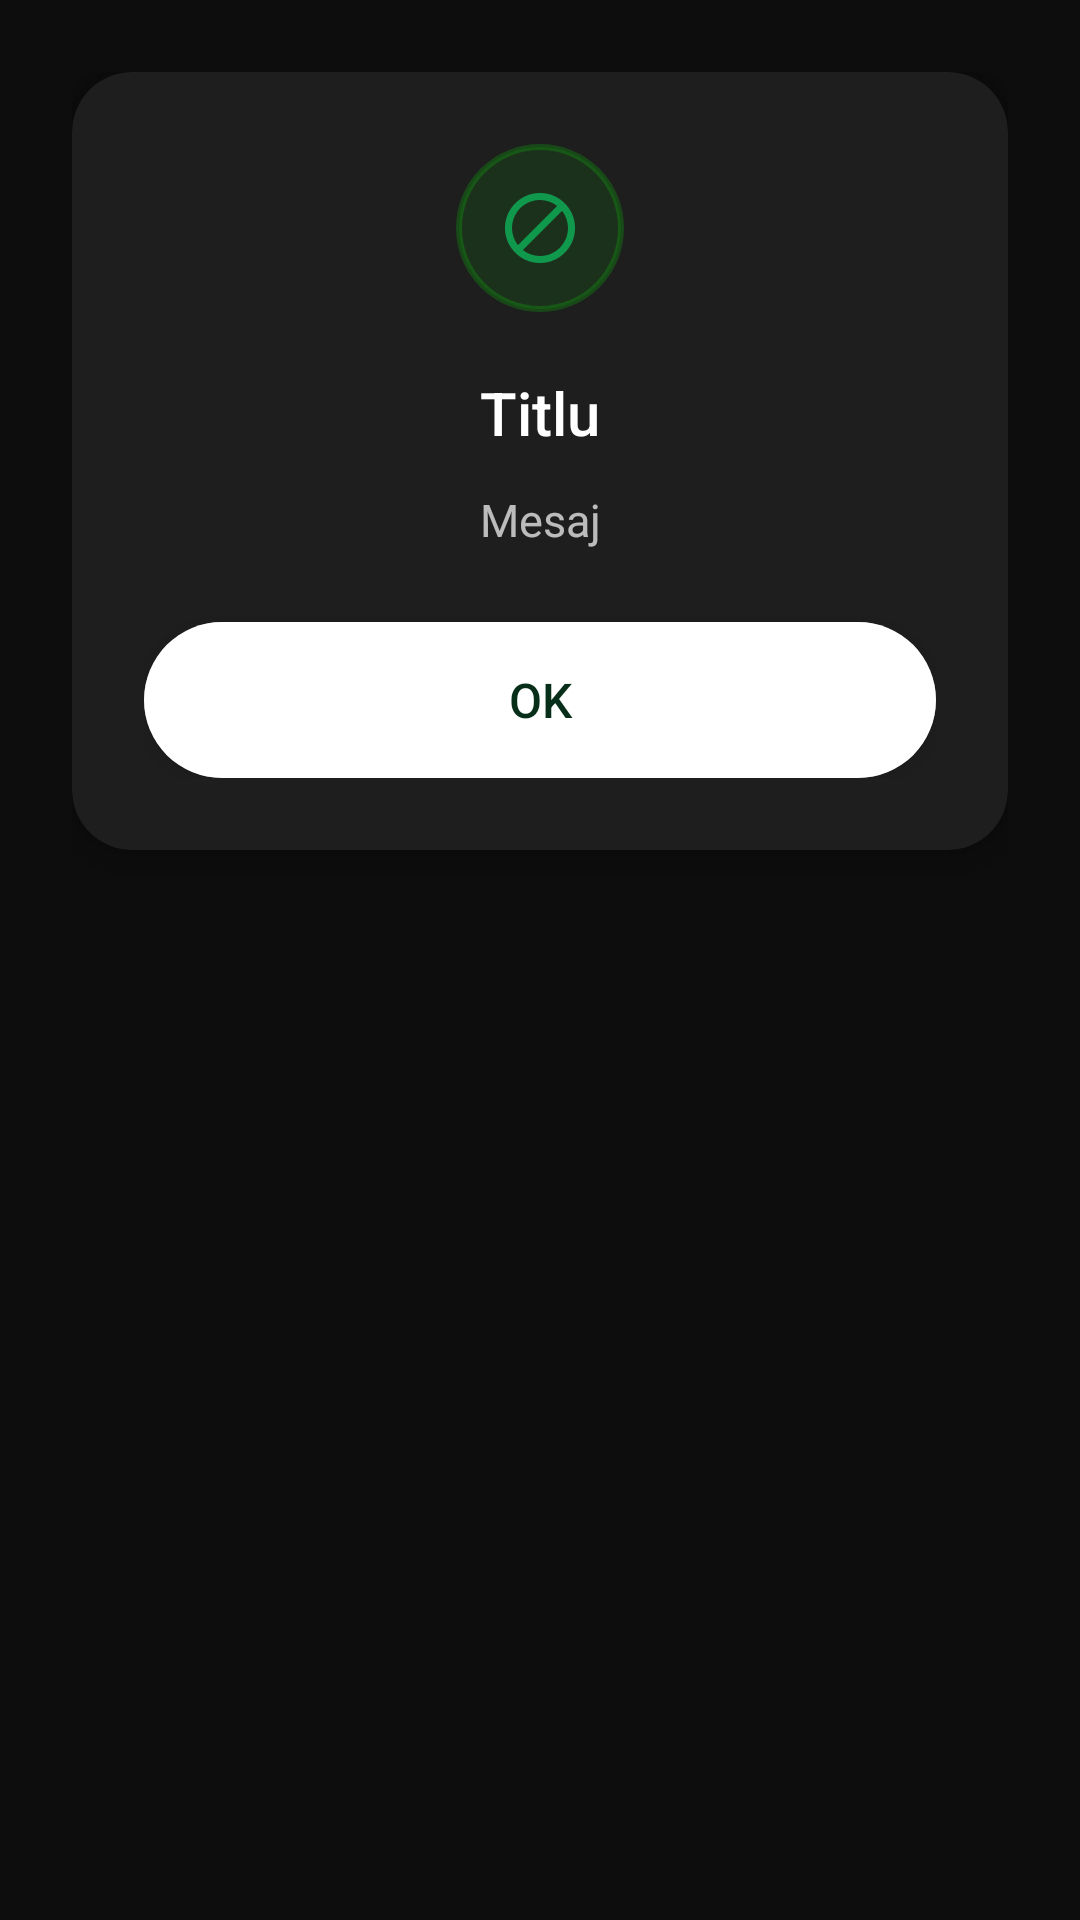

Icon click points for this 1080 × 1920 phone screenshot, format (x,y):
block: (540,228)
